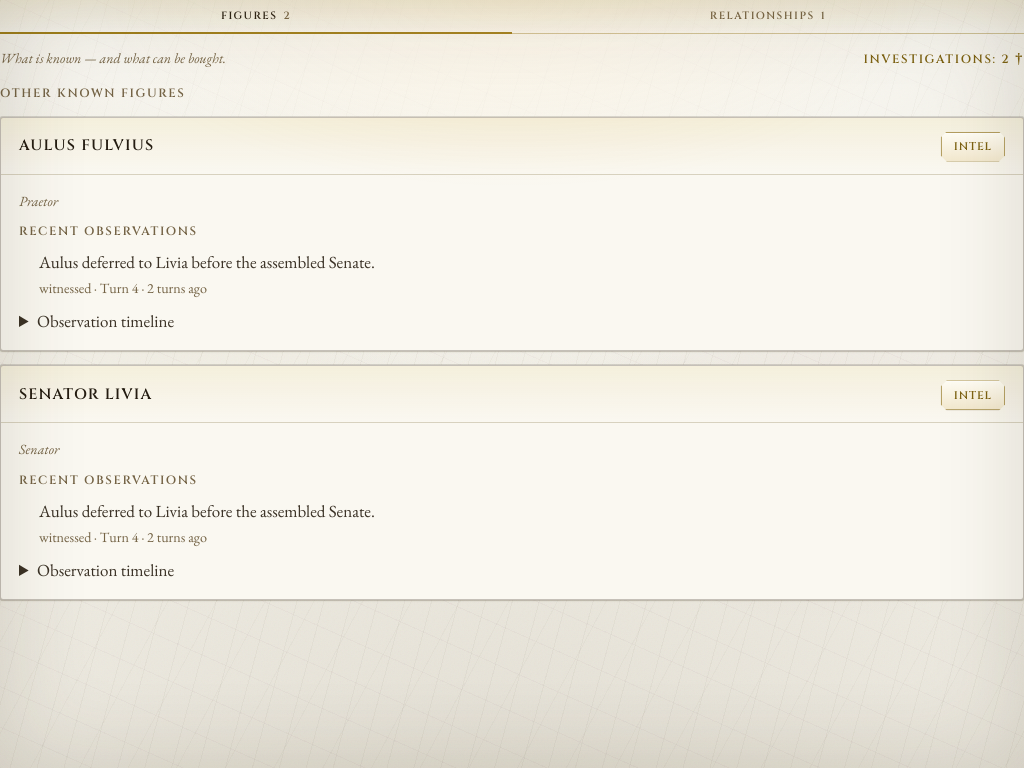
Test: the Personae register rail — Figures and Relationships › defaults to Figures (the existing cards) and swaps to the map on demand
Click the button "Relationships1": (768, 17) x1=512 y1=0 x2=1023 y2=34
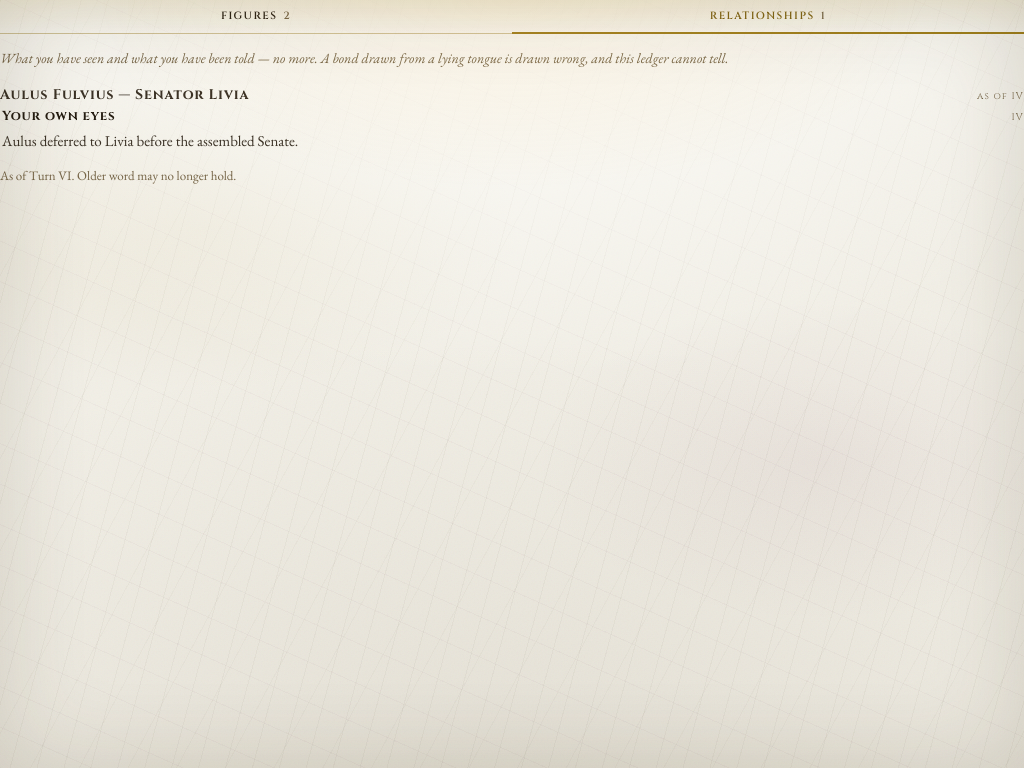
Check: the number of elements with class "gor-relationship-pair" is 1, box x1=0 y1=84 x2=1023 y2=152
